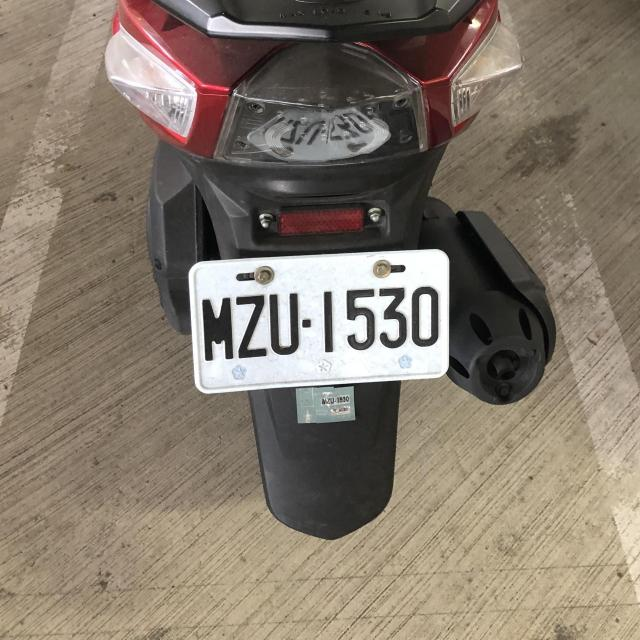W: (185, 249, 452, 393)
